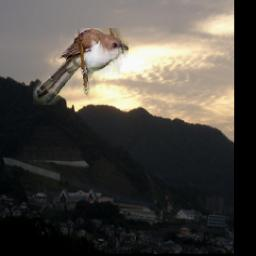Cuckoo: (34, 29, 129, 106)
